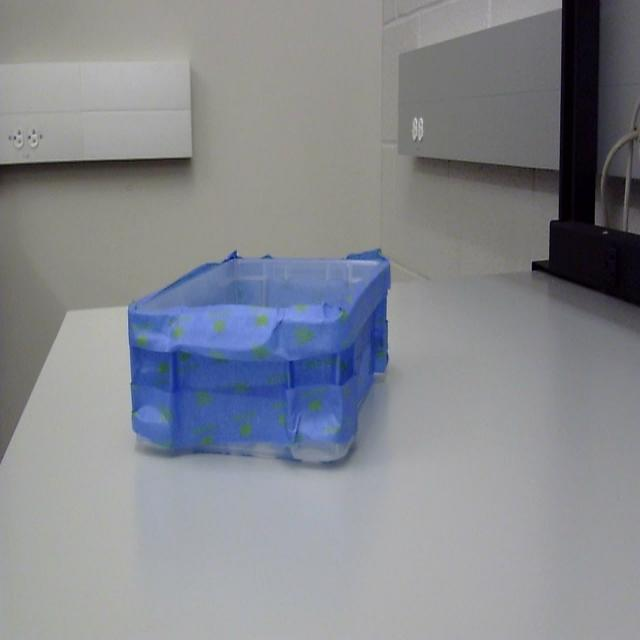bucket: (126, 251, 392, 468)
